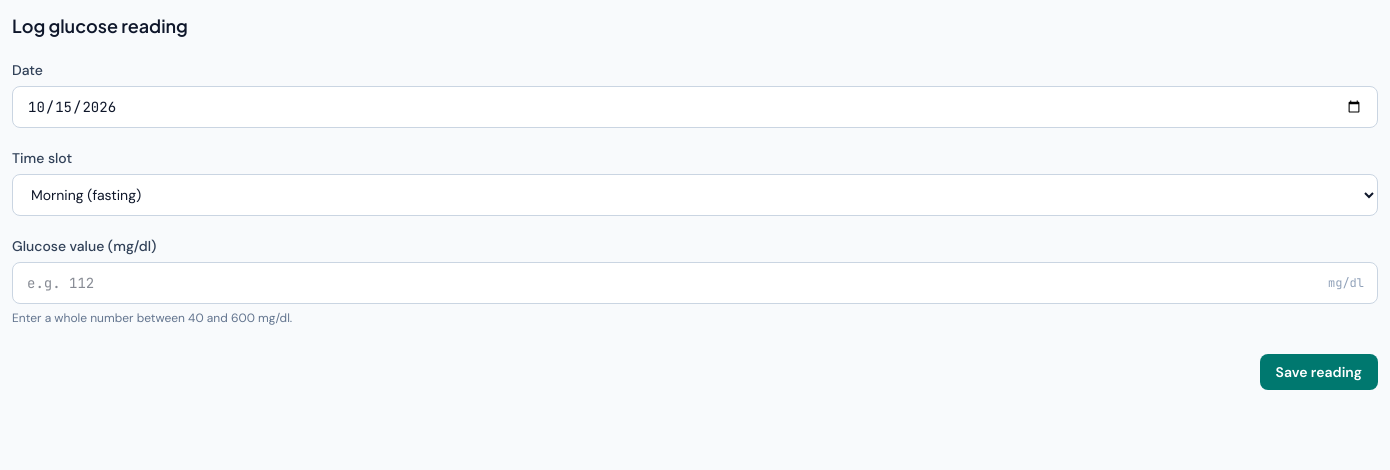
Test: ReadingForm › rejects out-of-range or decimal glucose values
The width and height of the screenshot is (1390, 470).
Type "35" into the field labelled "Glucose value (mg/dl)" at (695, 283), box [12, 262, 1378, 304]
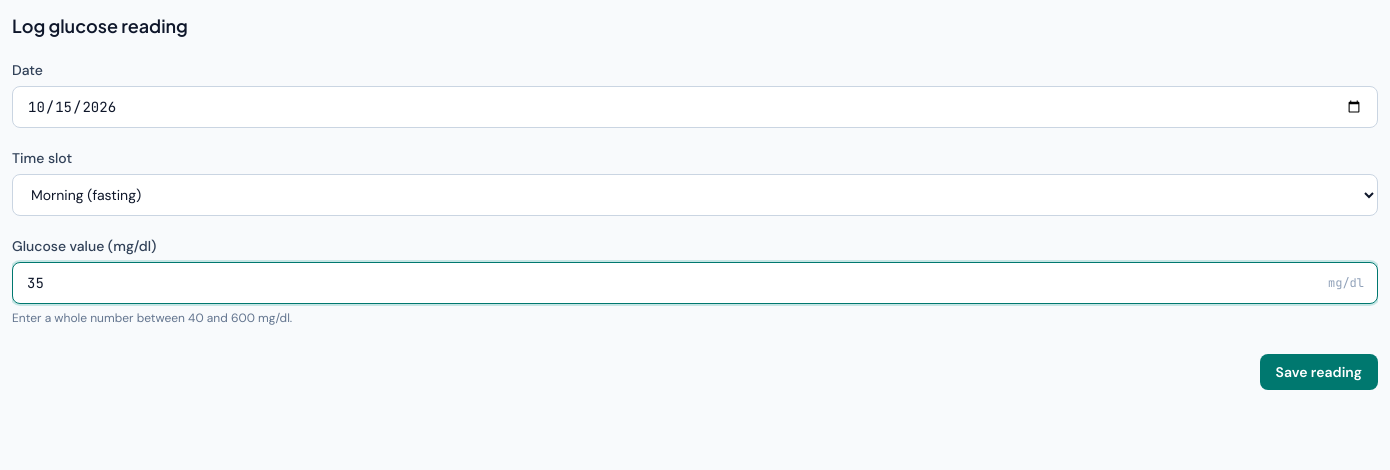
Click the button "Save reading" at (1319, 372), box [1260, 354, 1378, 390]
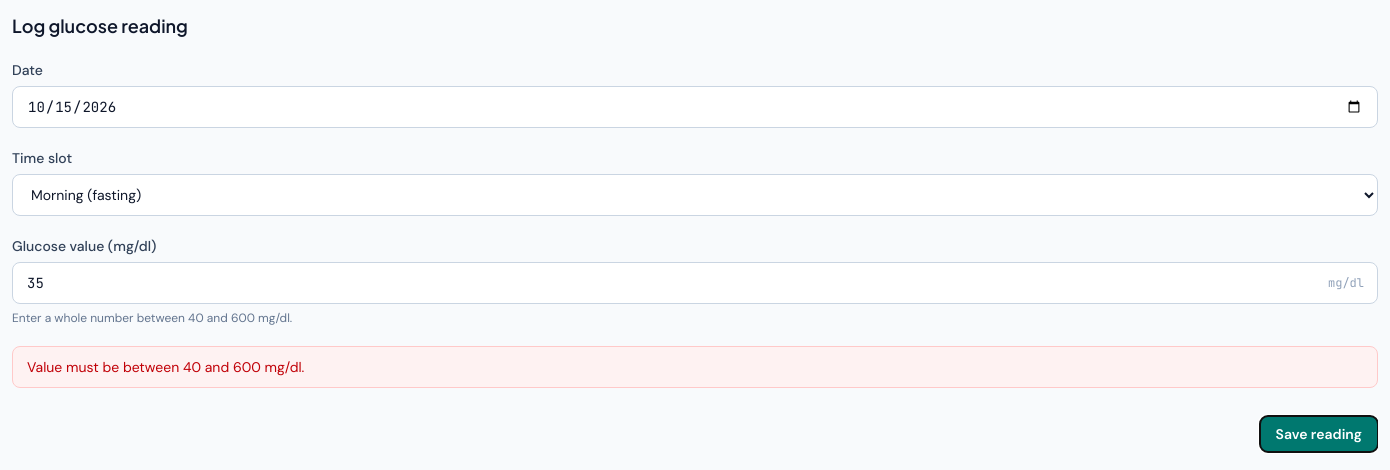
Now the message reads "Value must be between 40 and 600 mg/dl.", box [27, 358, 304, 376]
Replace the text in the field labelled "Glucose value (mg/dl)" with "125.5" at (695, 283), box [12, 262, 1378, 304]
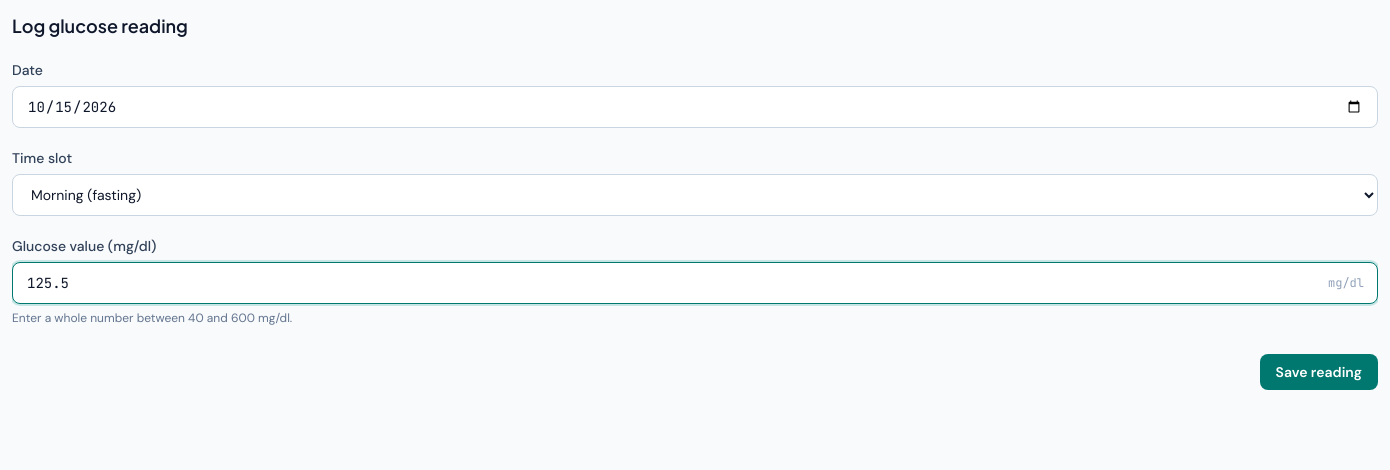
Click the button "Save reading" at (1319, 372), box [1260, 354, 1378, 390]
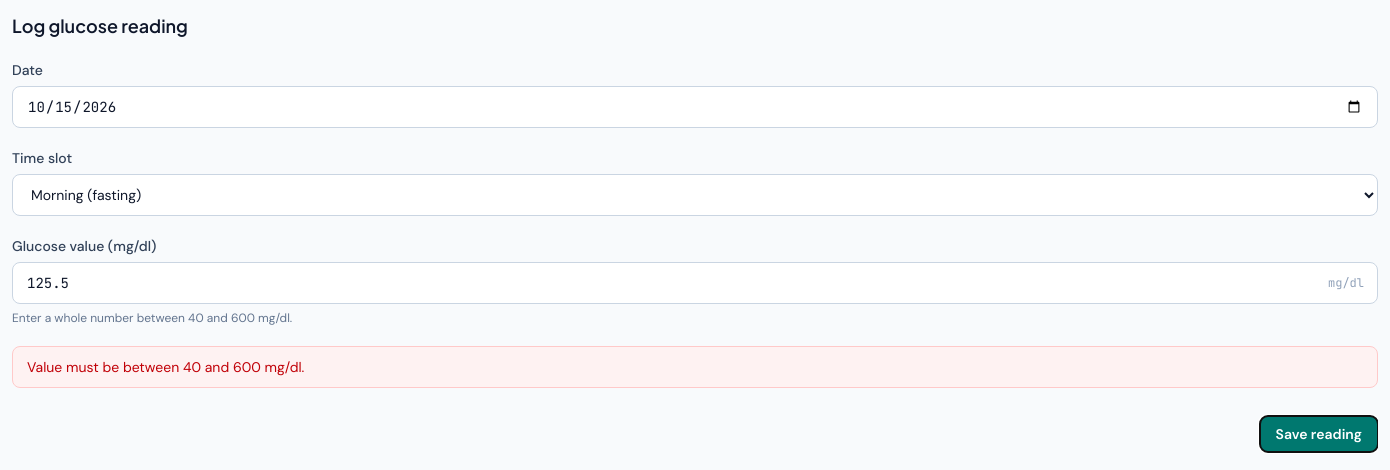
Now the message reads "Value must be between 40 and 600 mg/dl.", box [27, 358, 304, 376]
Replace the text in the field labelled "Glucose value (mg/dl)" with "650" at (695, 283), box [12, 262, 1378, 304]
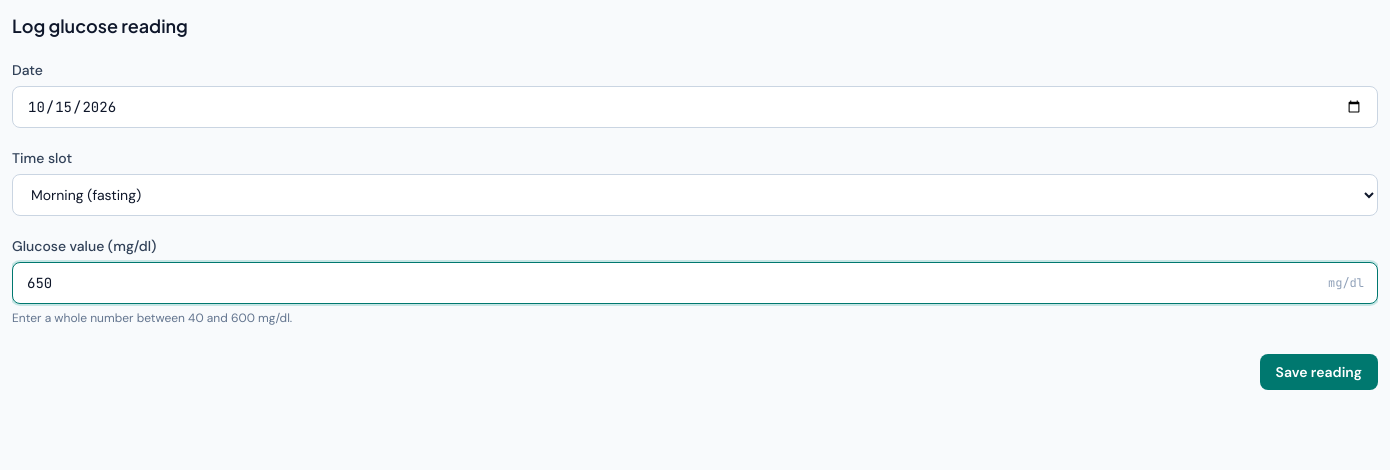
Click the button "Save reading" at (1319, 372), box [1260, 354, 1378, 390]
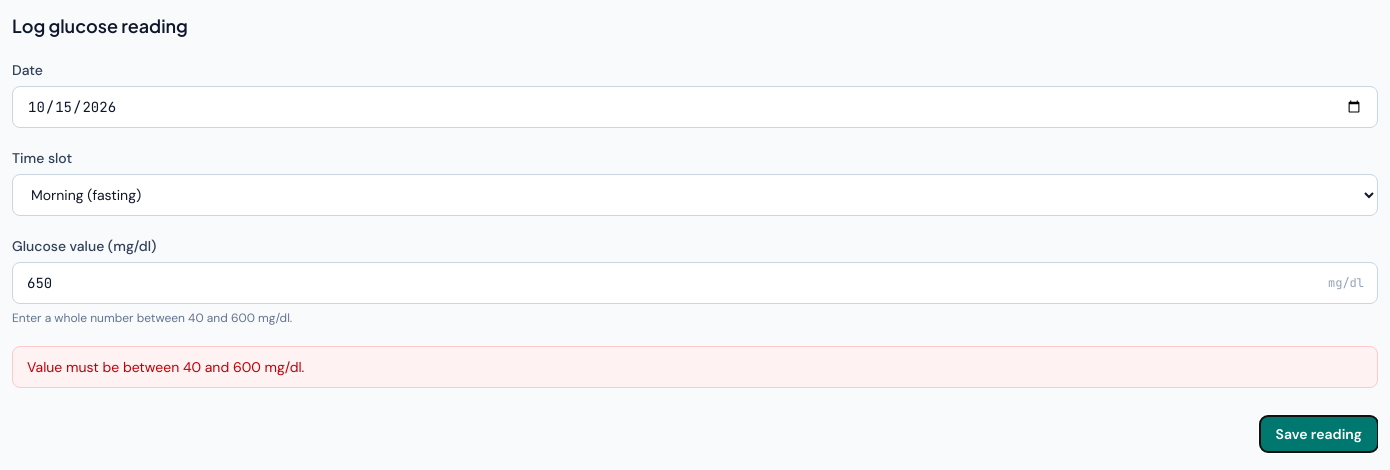
Now the message reads "Value must be between 40 and 600 mg/dl.", box [27, 358, 304, 376]
